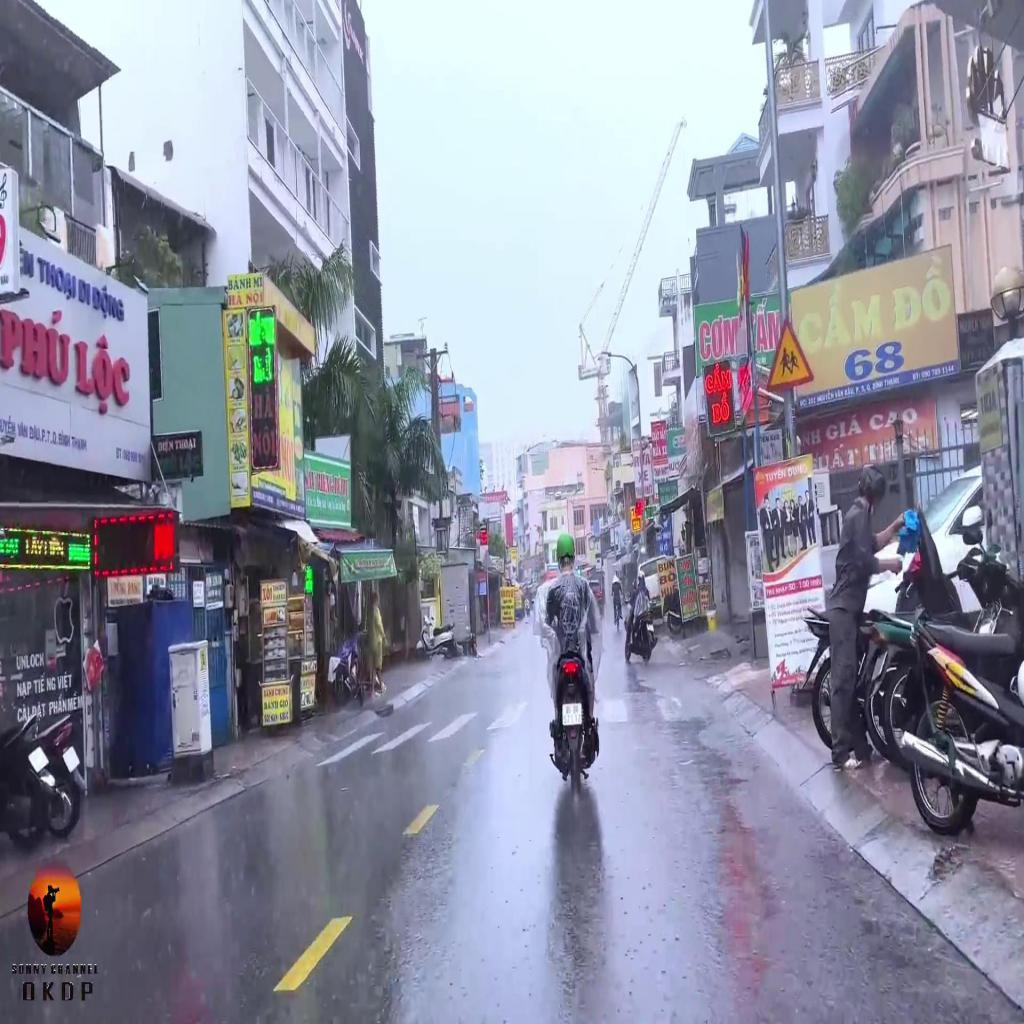chu_y_tre_em: (764, 316, 817, 394)
